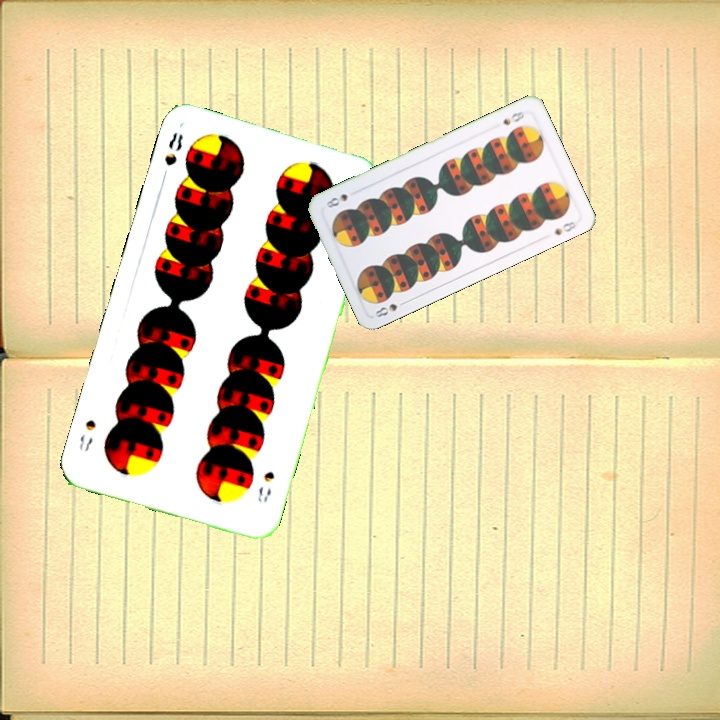S8: (157, 128, 186, 184), (253, 467, 277, 505), (371, 297, 410, 320), (499, 107, 527, 128)
